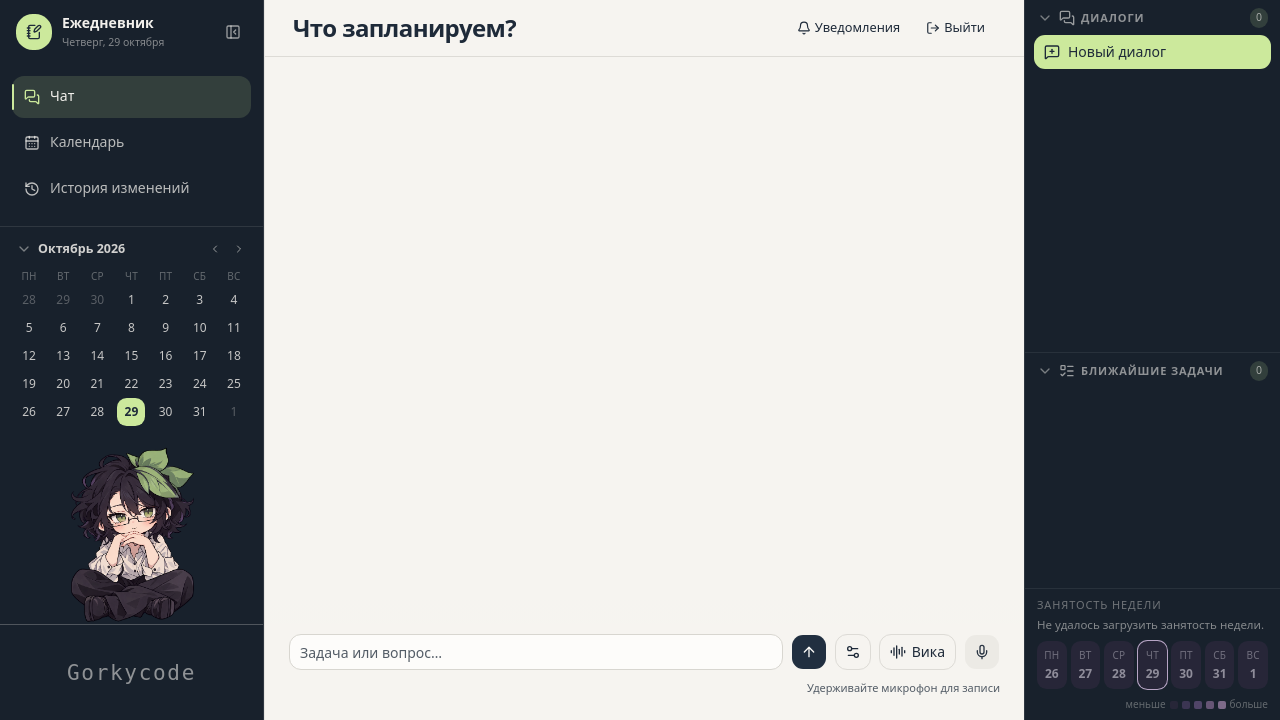
it: planner chat › opens the editor for records the agent changed or showed in chat
Click the button with aria-label "Включить open-air режим Вика" at (917, 652), box left=879, top=634, right=956, bottom=670
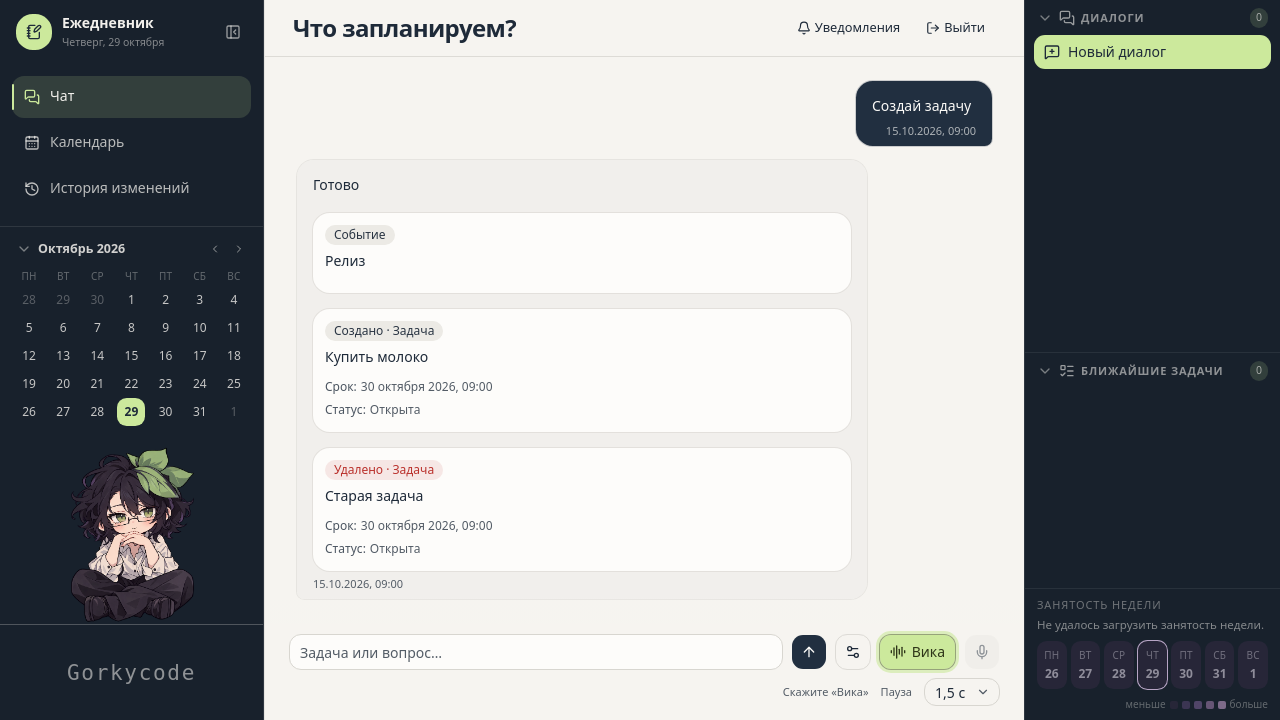
Result: the text "Старая задача" is shown at left=325, top=486, right=423, bottom=504
Click the button named "Открыть «Купить молоко»" at (582, 370), box left=313, top=308, right=851, bottom=432
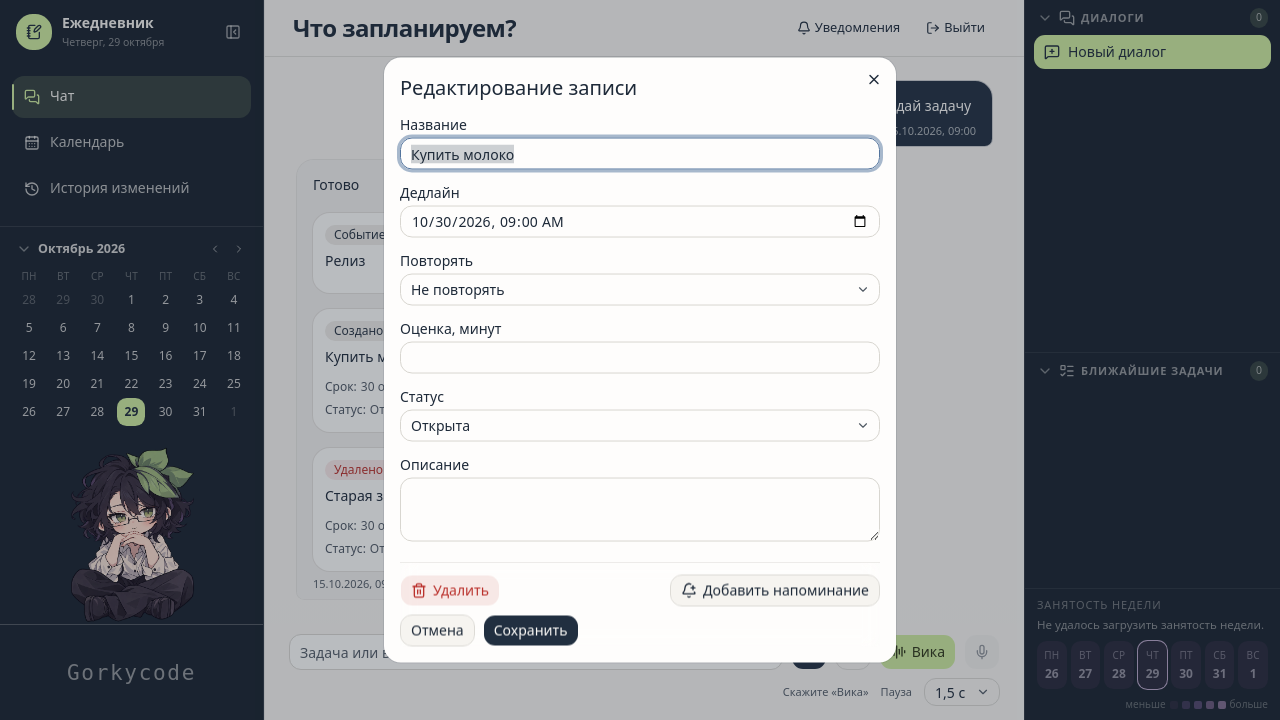
Result: the field labelled "Название" holds "Купить молоко" at left=400, top=138, right=880, bottom=170
Press Escape
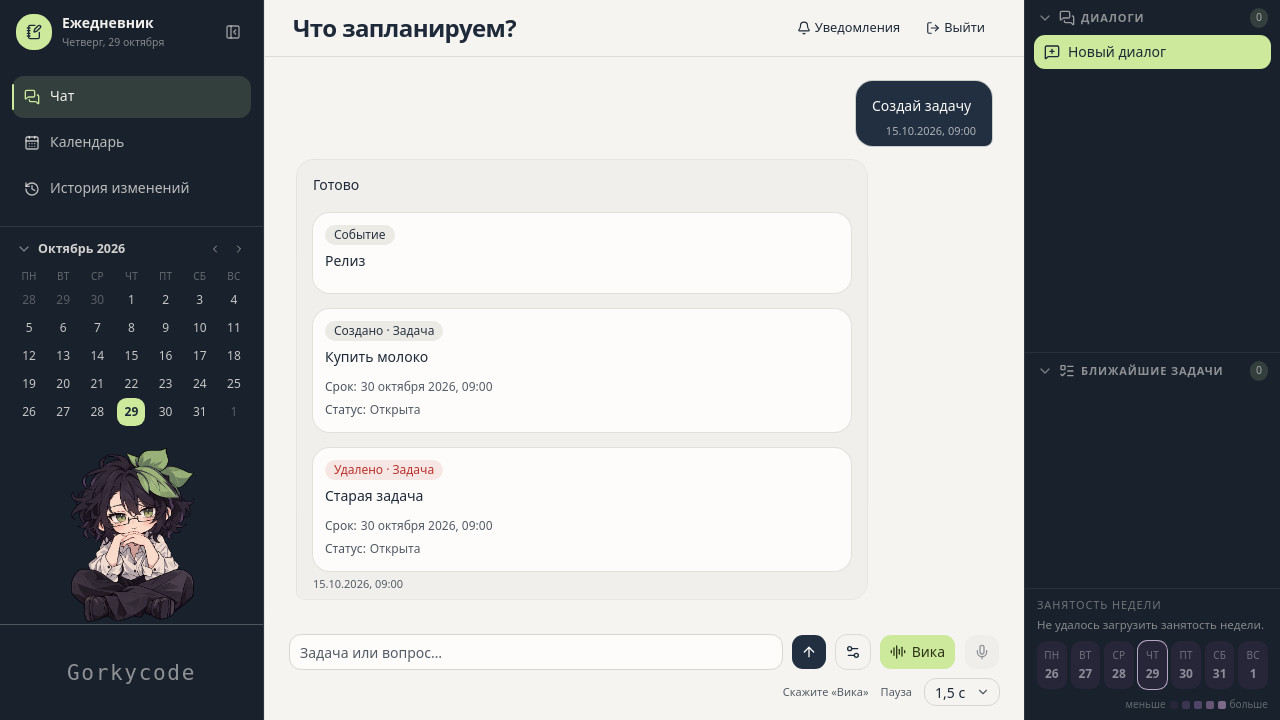
Click the button named "Открыть «Релиз»" at (582, 252), box left=313, top=212, right=851, bottom=292
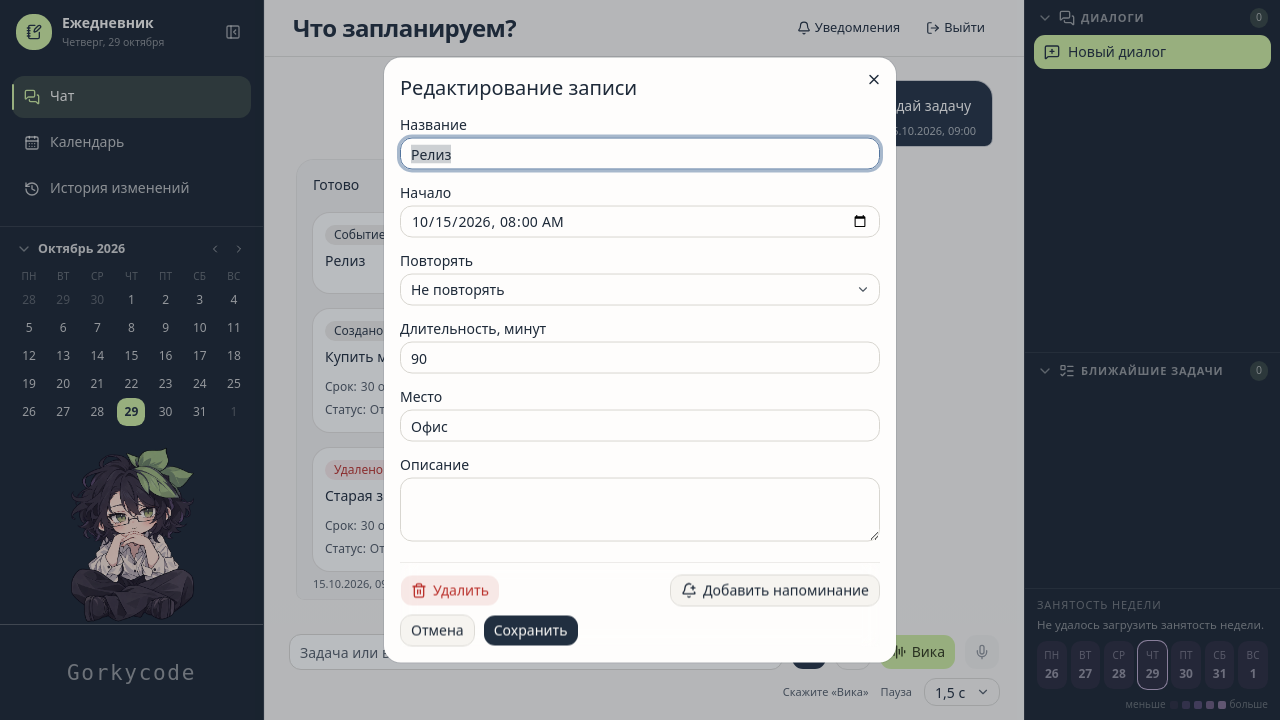
Result: the field labelled "Название" holds "Релиз" at left=400, top=138, right=880, bottom=170
